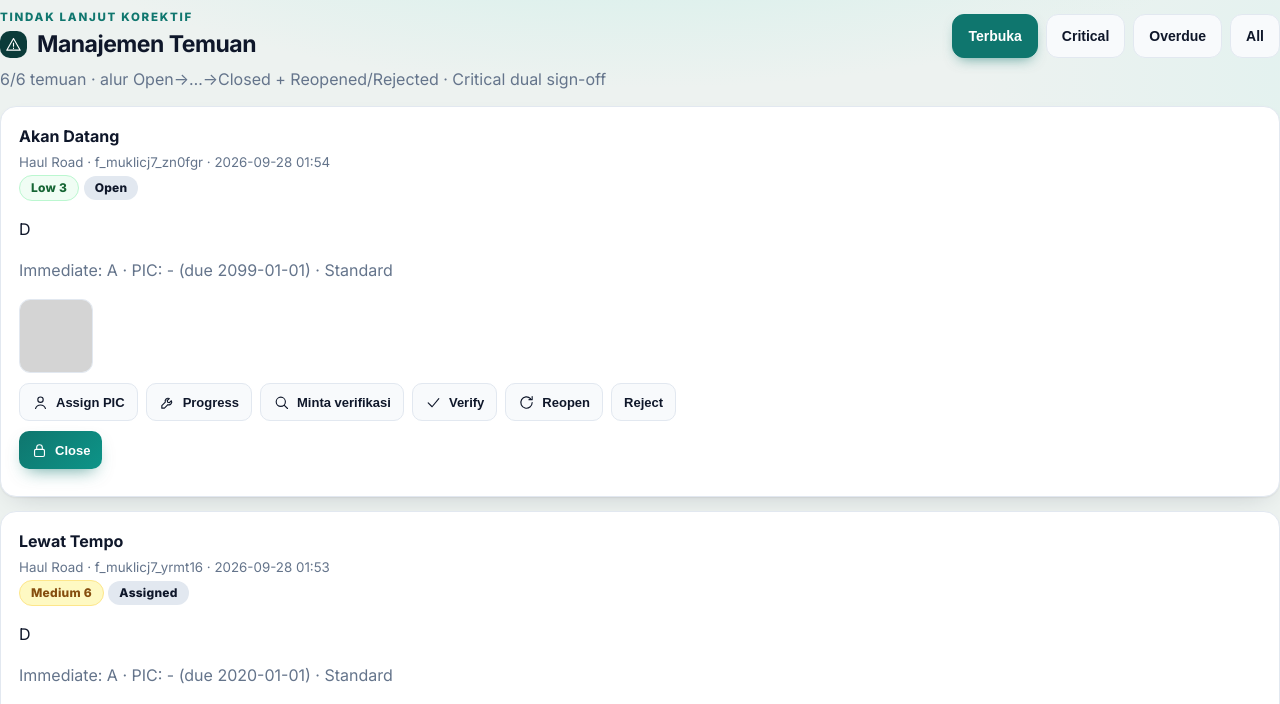
Test: Findings › PATROL assign ditolak karena izin
This screenshot has width=1280, height=704.
Expected: the heading "Manajemen Temuan" is shown, [0,30,256,58]
Click the button "Assign PIC": click(78, 402) [19,383,138,421]
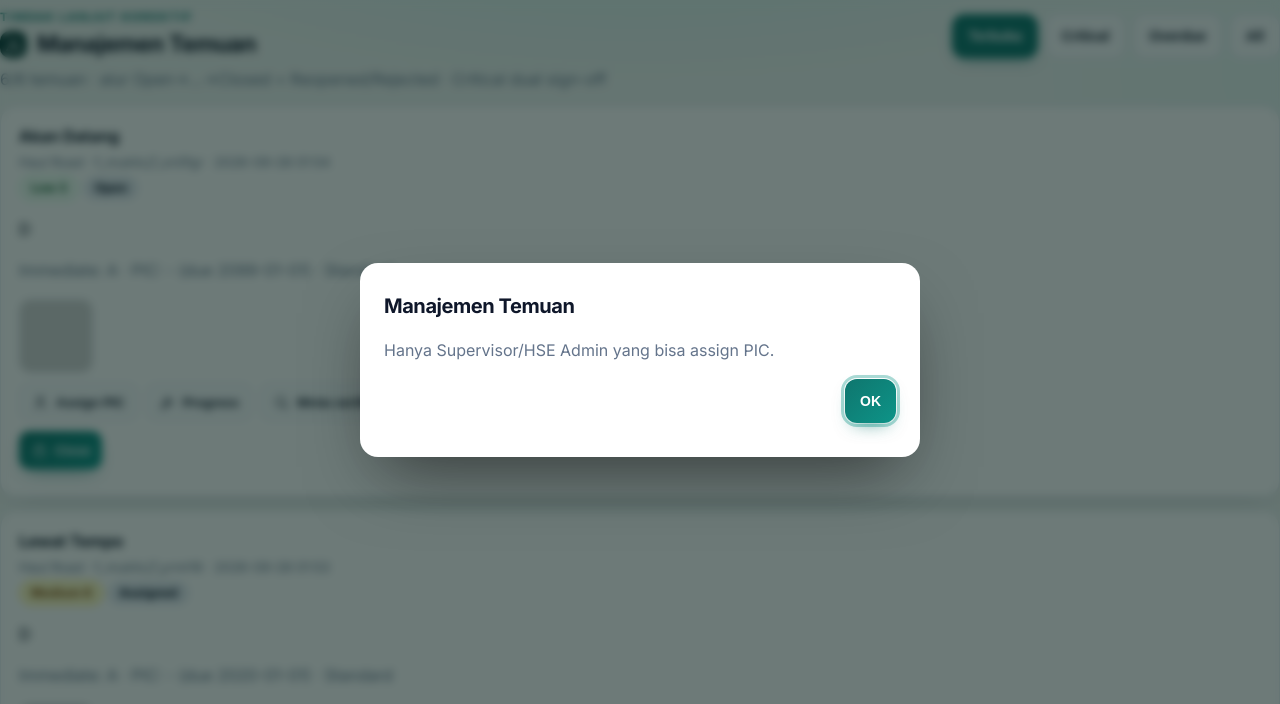
Expected: the text "Hanya Supervisor/HSE Admin yang bisa assign PIC." is shown, [384,340,774,360]
